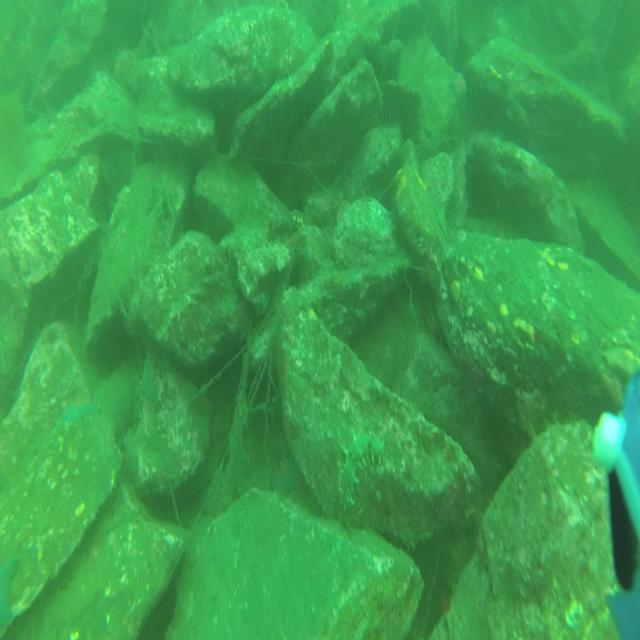holothurian: (333, 424, 387, 514), (47, 124, 76, 166)
starfish: (0, 553, 20, 634), (267, 452, 301, 499), (61, 391, 104, 428), (449, 70, 469, 109)
